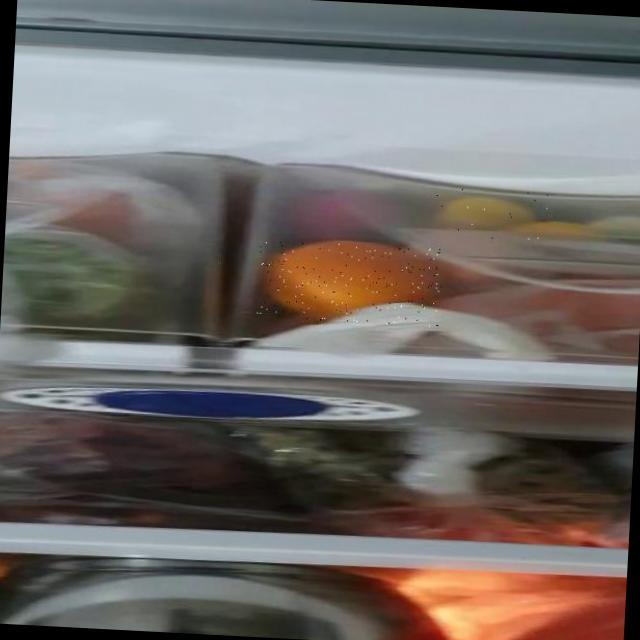Limón: (433, 186, 548, 249)
orange: (256, 239, 443, 326)
